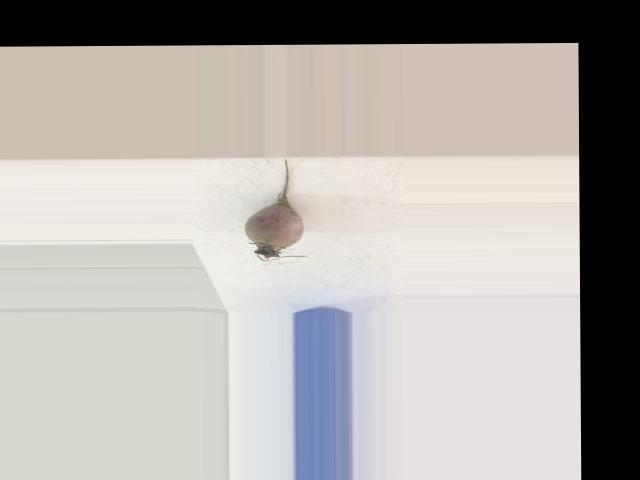beet: (245, 158, 308, 261)
